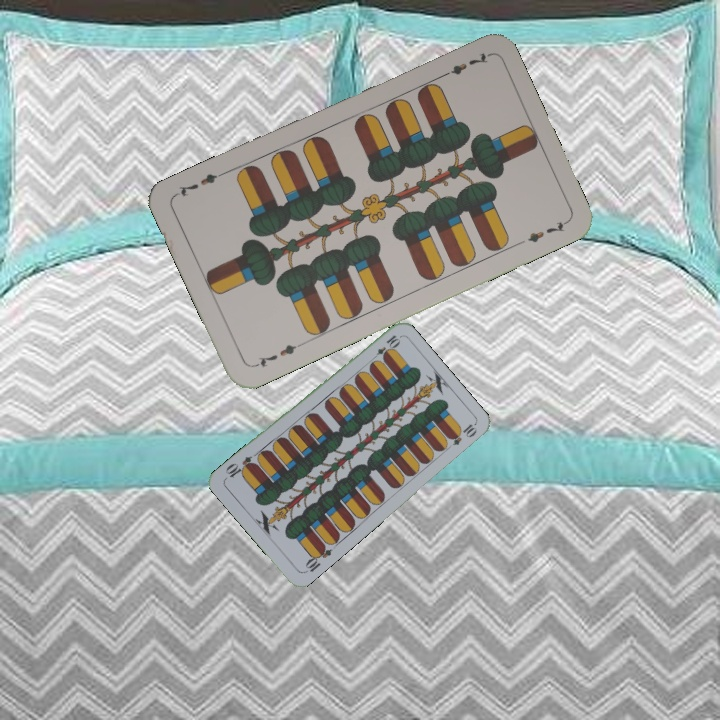E10: (300, 541, 334, 576), (367, 331, 402, 364)
E7: (436, 48, 491, 81), (249, 339, 305, 370)
